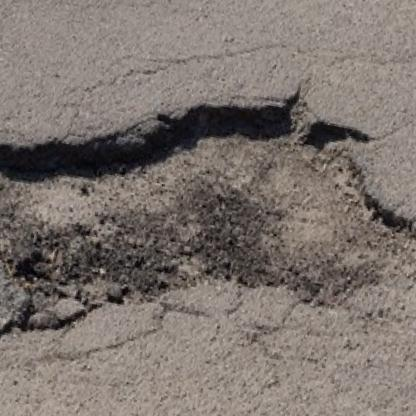pothole: (0, 29, 416, 390)
